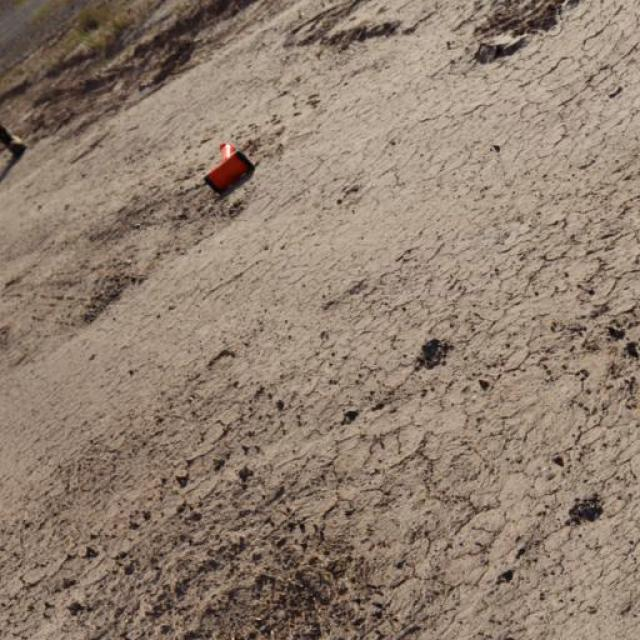mallet: (202, 140, 252, 194)
